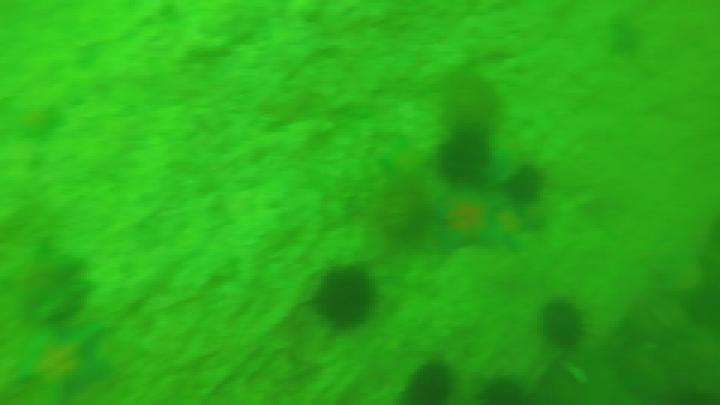echinus: (6, 318, 104, 398), (422, 180, 522, 257), (14, 245, 85, 333), (312, 266, 371, 328), (440, 127, 497, 191), (543, 300, 586, 349), (405, 363, 455, 405), (507, 161, 547, 204)
